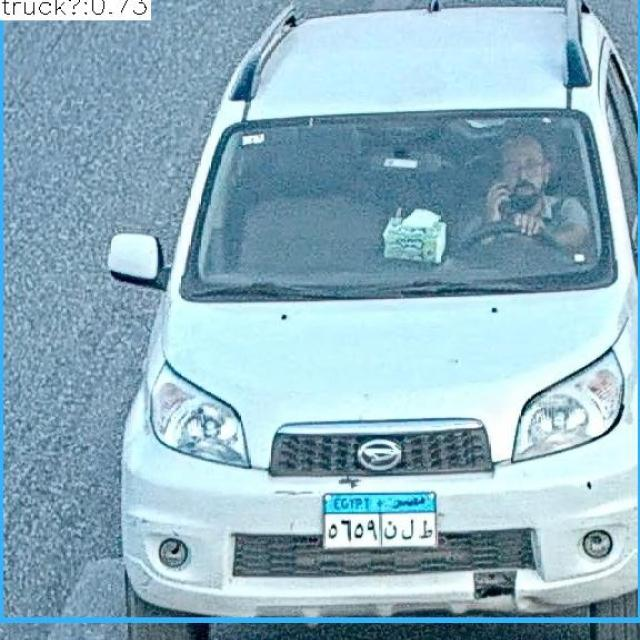Seat_belt: (405, 108, 608, 288)
